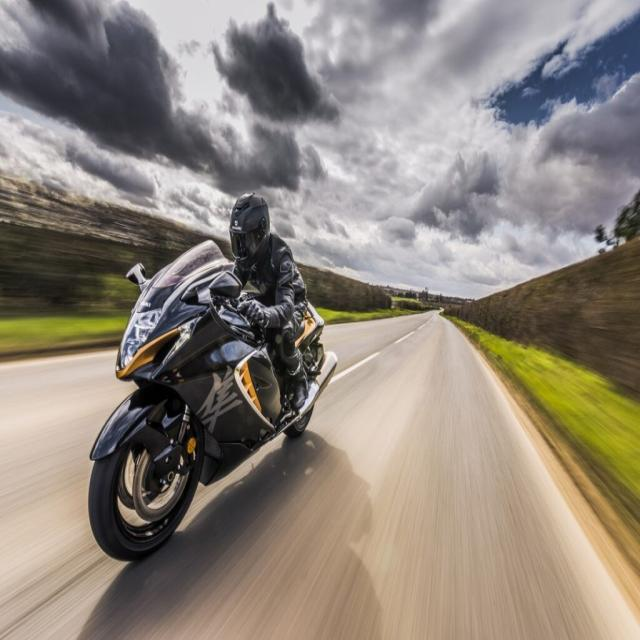MOTORCYCLE: (82, 301, 333, 552)
